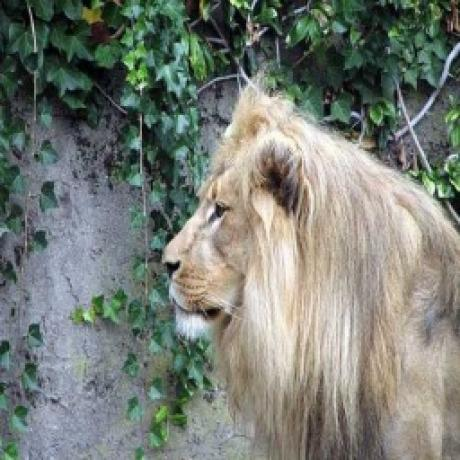Lion: (160, 81, 460, 460)
